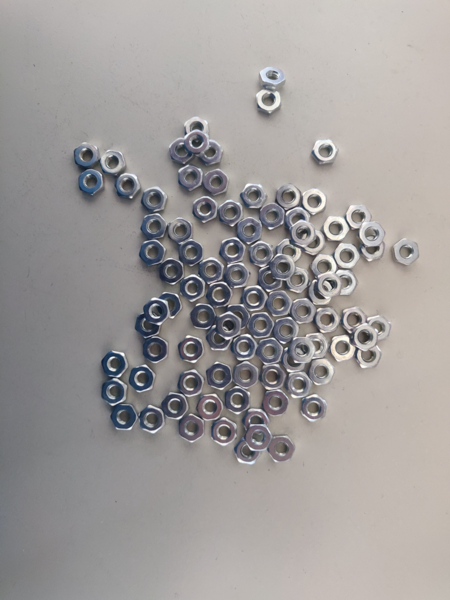nut: (268, 435, 296, 463), (351, 323, 378, 352), (162, 393, 190, 420), (178, 369, 205, 397), (256, 338, 284, 365), (332, 268, 359, 296), (139, 405, 165, 434), (179, 414, 205, 443), (211, 417, 237, 446), (288, 298, 317, 324), (268, 255, 297, 281), (303, 393, 328, 423), (130, 365, 157, 392), (178, 336, 205, 363), (246, 424, 273, 451), (393, 239, 420, 266), (303, 333, 330, 360), (356, 342, 383, 369), (341, 307, 368, 334), (312, 139, 339, 166), (115, 172, 142, 199), (143, 298, 170, 325), (273, 317, 300, 344), (111, 405, 139, 431), (102, 350, 128, 378), (144, 336, 170, 364), (196, 394, 224, 420), (207, 362, 233, 390), (226, 387, 252, 415), (100, 150, 126, 178), (241, 285, 269, 311), (223, 262, 251, 288), (237, 217, 263, 245), (235, 361, 260, 390), (217, 311, 242, 340), (357, 237, 386, 262), (235, 438, 261, 465), (260, 364, 286, 391), (142, 186, 168, 213), (141, 213, 168, 239), (140, 240, 167, 266), (198, 139, 224, 166), (204, 169, 230, 196), (206, 281, 233, 307), (266, 290, 293, 316), (220, 237, 246, 264), (285, 266, 311, 293), (288, 371, 313, 399), (310, 358, 335, 386), (249, 240, 274, 268), (358, 222, 386, 247), (232, 334, 258, 360), (78, 170, 104, 196), (276, 184, 302, 210), (324, 216, 350, 242), (264, 390, 289, 417), (315, 307, 342, 332), (169, 138, 194, 165), (190, 304, 217, 329), (289, 338, 317, 362), (244, 410, 270, 435), (256, 89, 282, 114), (178, 165, 203, 191), (158, 292, 183, 318), (258, 266, 283, 292), (335, 243, 361, 268), (332, 335, 356, 362), (367, 314, 391, 341), (259, 67, 286, 91), (194, 196, 218, 223), (219, 200, 243, 227), (160, 258, 184, 285), (248, 313, 275, 337), (312, 255, 339, 279), (346, 205, 373, 229), (182, 274, 205, 302), (180, 239, 203, 267), (74, 142, 99, 167), (103, 379, 127, 405), (169, 218, 193, 244), (185, 130, 209, 156), (241, 184, 267, 208), (136, 312, 160, 338), (206, 325, 230, 351), (225, 305, 251, 329), (261, 203, 285, 229), (303, 188, 327, 214), (292, 220, 316, 246), (185, 115, 208, 142), (283, 348, 307, 373), (319, 272, 342, 298), (303, 229, 326, 255), (199, 258, 224, 281), (309, 280, 332, 304), (287, 207, 309, 231), (277, 239, 302, 260)
